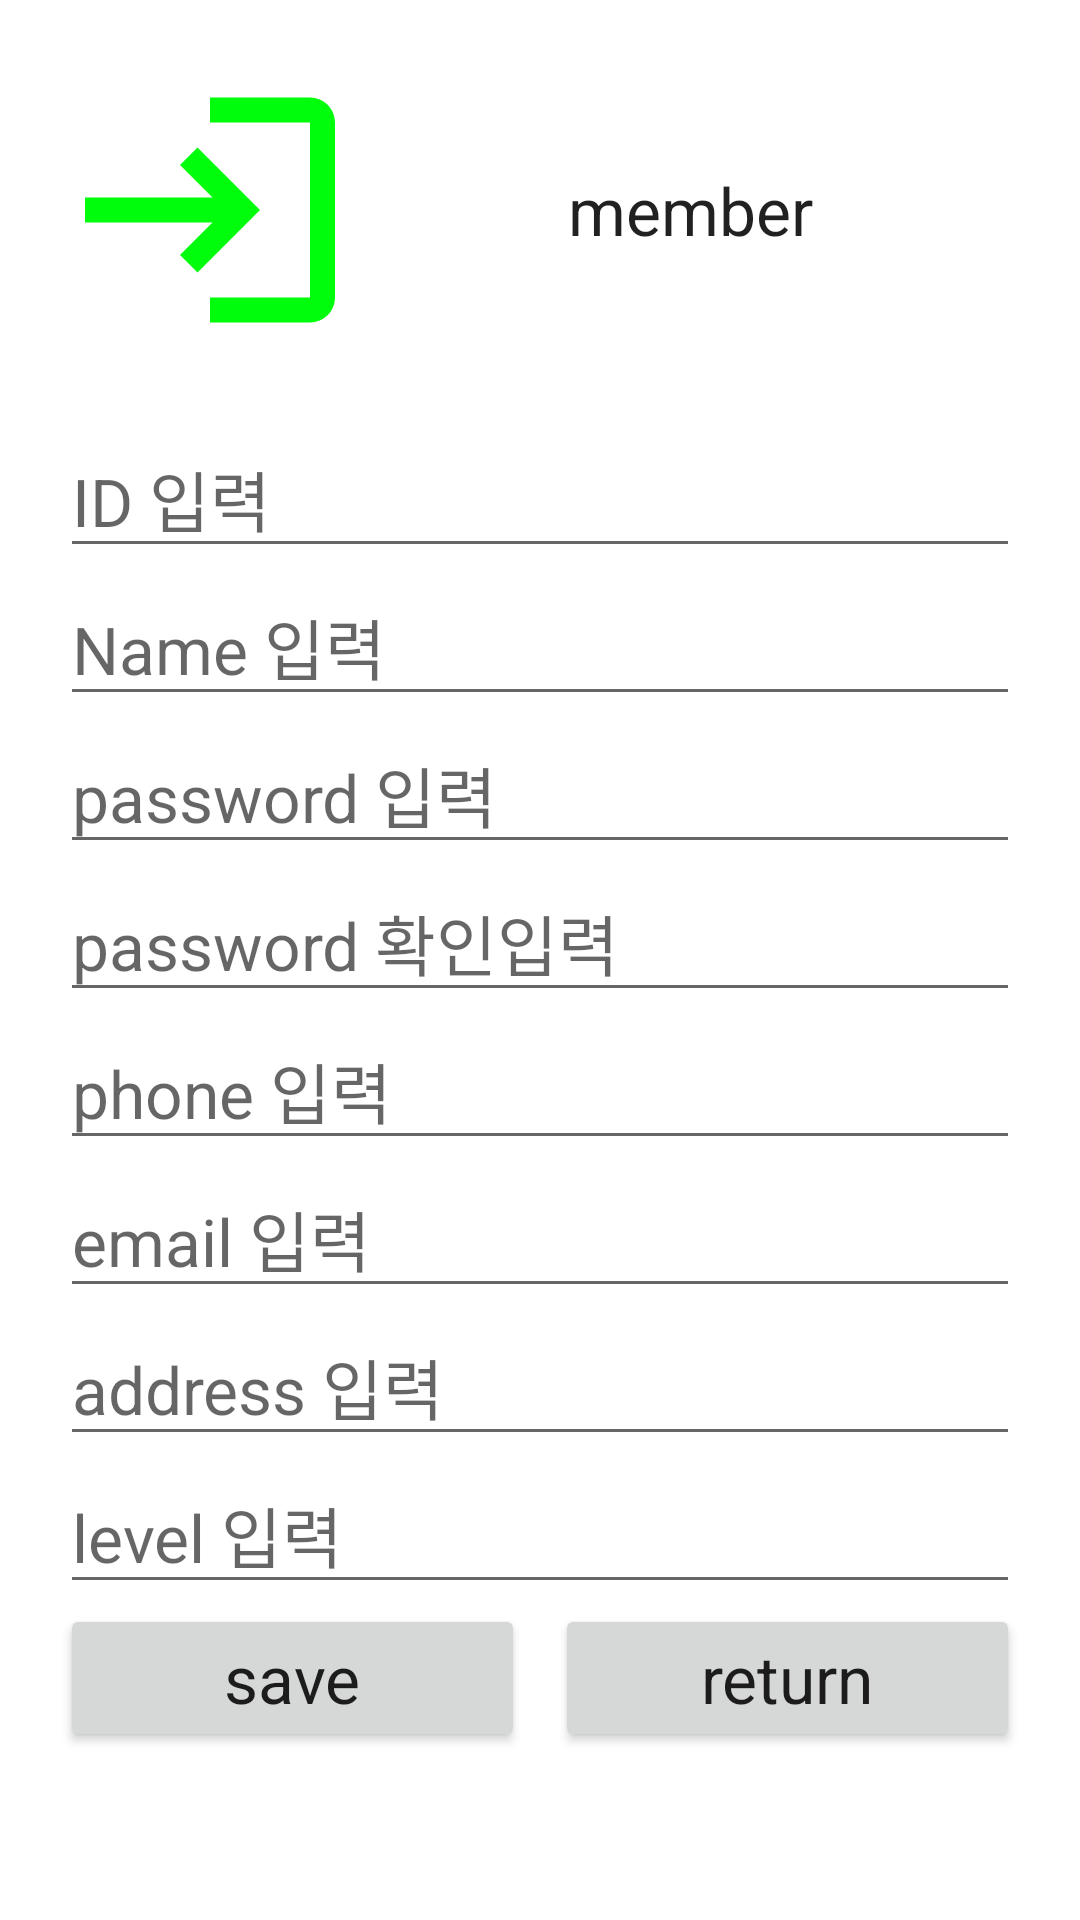

Locate icon controls on the screen. Image size 1080 × 1920, boxes as (x1, y1, x2, y2).
login: (85, 97, 335, 323)
